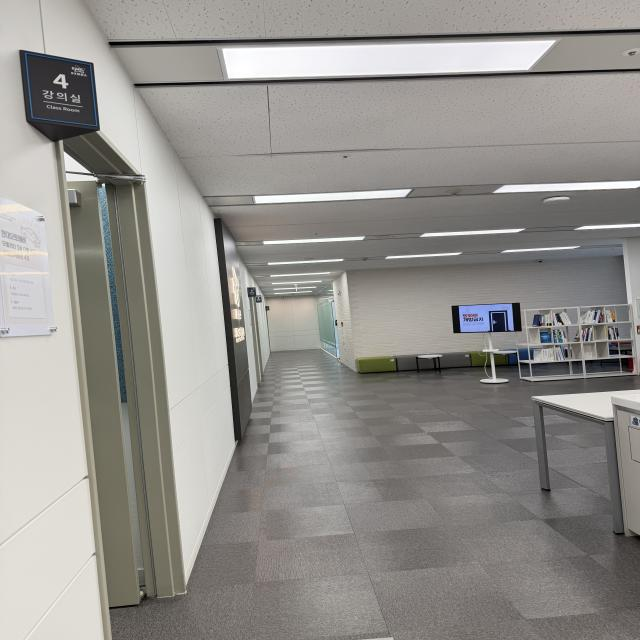room4: (21, 52, 98, 127)
